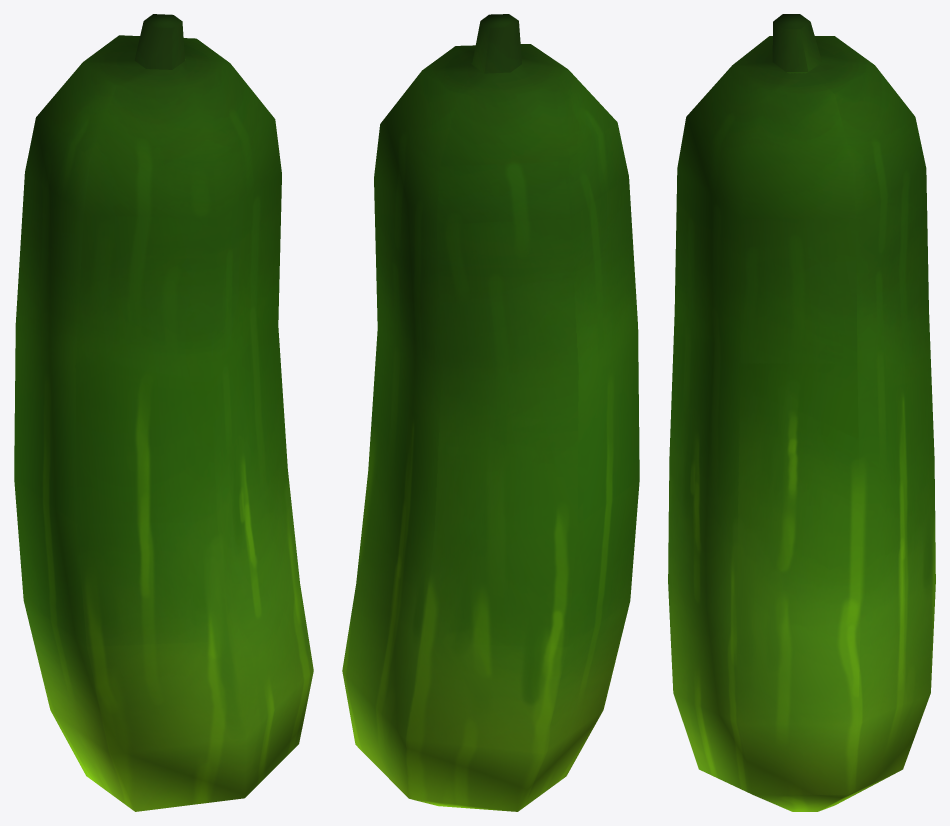
The model's file is cucumber.fbx.
3 renders of one model, left to right at view 1: azimuth 30°, elevation 25°; view 2: azimuth 150°, elevation 25°; view 3: azimuth 270°, elevation 25°, orthographic. The views are drawn at different scales.
Visible parts, largest first — view 1: cucumber; view 2: cucumber; view 3: cucumber.
Boxes of the visible parts, left/top/right/bottom form: cucumber: left=14, top=14, right=313, bottom=811; cucumber: left=342, top=14, right=639, bottom=811; cucumber: left=668, top=14, right=935, bottom=811.
Size of the model in its own units: 1.01 by 3.19 by 1.01.
